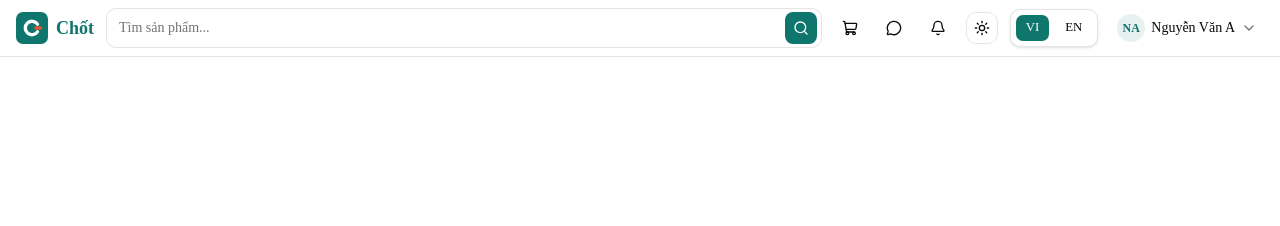
Test: Header — menu tài khoản (desktop) › mục "Quản trị" (Week8.md 3.9) — chỉ ADMIN › ADMIN nhưng chưa kịp biết shop (shopLink null) -> vẫn có "Quản trị"
Click the button "NA Nguyễn Văn A".
click(1187, 28)  # box 1110,12 -> 1264,44
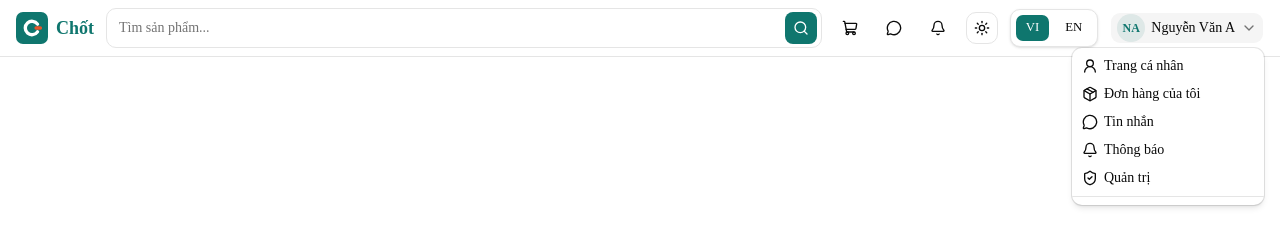
Expected: the menu item "Quản trị" is shown, 1082,170 -> 1150,186
